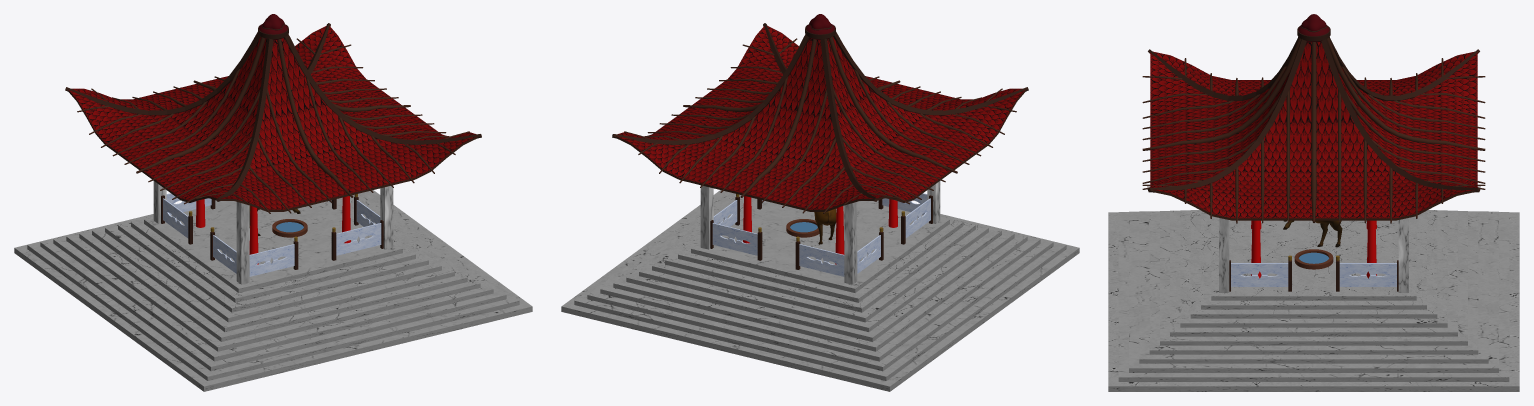
The model's file is pagoda.fbx.
3 renders of one model, left to right at view 1: azimuth 30°, elevation 25°; view 2: azimuth 150°, elevation 25°; view 3: azimuth 270°, elevation 25°, orthographic. The views are drawn at different scales.
Parts seen in each view (by area): view 1: RoofScales, Cube, Cube.045, Cube.044, Cube.043, Cube.042, Cube.041, Cube.040, Cube.039, Cube.038, Cube.015, Cube.009 (+15 smaller); view 2: RoofScales, Cube, Cube.045, Cube.044, Cube.043, Cube.042, Cube.041, Cube.040, Cube.039, Cube.038, Cube.015, Cube.009 (+16 smaller); view 3: RoofScales, Cube, Cube.045, Cube.044, Cube.043, Cube.042, Cube.041, Cube.040, Cube.039, Cube.038, Cube.015, Cube.009 (+22 smaller).
Part boxes in pixels (bbox=[...]): RoofScales: bbox=[69, 25, 476, 209]; Cube: bbox=[144, 200, 402, 292]; Cube.045: bbox=[14, 190, 532, 391]; Cube.044: bbox=[27, 191, 519, 380]; Cube.043: bbox=[40, 192, 506, 371]; Cube.042: bbox=[53, 193, 493, 361]; Cube.041: bbox=[66, 194, 480, 351]; Cube.040: bbox=[79, 194, 467, 341]; Cube.039: bbox=[92, 196, 454, 331]; Cube.038: bbox=[105, 199, 441, 322]; Cube.015: bbox=[118, 197, 428, 312]; Cube.009: bbox=[131, 198, 415, 302]; RoofScales: bbox=[616, 25, 1024, 209]; Cube: bbox=[691, 200, 949, 292]; Cube.045: bbox=[561, 190, 1079, 391]; Cube.044: bbox=[574, 191, 1066, 380]; Cube.043: bbox=[587, 192, 1053, 371]; Cube.042: bbox=[600, 193, 1040, 361]; Cube.041: bbox=[613, 194, 1027, 351]; Cube.040: bbox=[626, 194, 1014, 341]; Cube.039: bbox=[639, 196, 1001, 331]; Cube.038: bbox=[652, 199, 988, 322]; Cube.015: bbox=[665, 197, 975, 312]; Cube.009: bbox=[678, 198, 962, 302]; RoofScales: bbox=[1150, 41, 1477, 218]; Cube: bbox=[1211, 216, 1416, 300]; Cube.045: bbox=[1108, 212, 1519, 391]; Cube.044: bbox=[1118, 212, 1509, 381]; Cube.043: bbox=[1129, 211, 1498, 372]; Cube.042: bbox=[1139, 211, 1488, 363]; Cube.041: bbox=[1149, 211, 1478, 354]; Cube.040: bbox=[1160, 211, 1467, 345]; Cube.039: bbox=[1170, 210, 1457, 336]; Cube.038: bbox=[1180, 210, 1447, 327]; Cube.015: bbox=[1190, 210, 1437, 318]; Cube.009: bbox=[1201, 210, 1426, 309].
Size of what is drawn, in the model's own units: 1600 by 1248 by 1600.
Materials: 13 (5 with a texture image).
